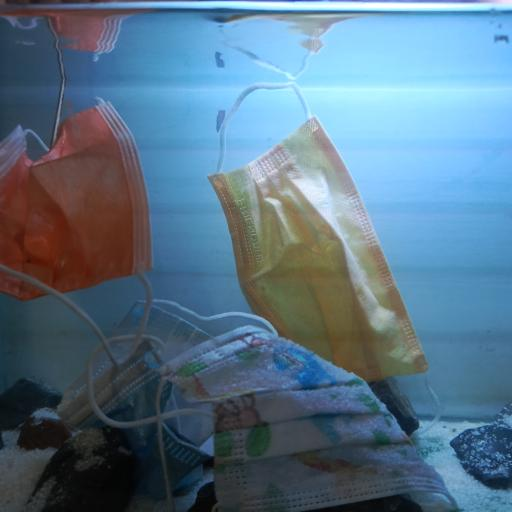mask: (205, 81, 429, 383), (154, 324, 458, 512), (56, 298, 278, 512), (0, 98, 155, 368)
